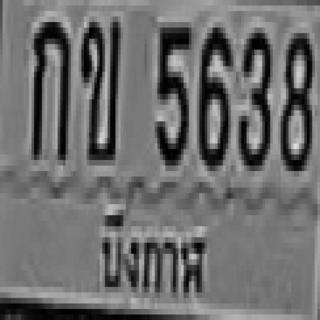A01: (29, 17, 68, 154)
A02: (79, 16, 118, 160)
N03: (236, 22, 270, 166)
N05: (155, 22, 189, 160)
N06: (197, 22, 228, 166)
N08: (278, 28, 312, 166)
P05: (92, 204, 214, 302)
